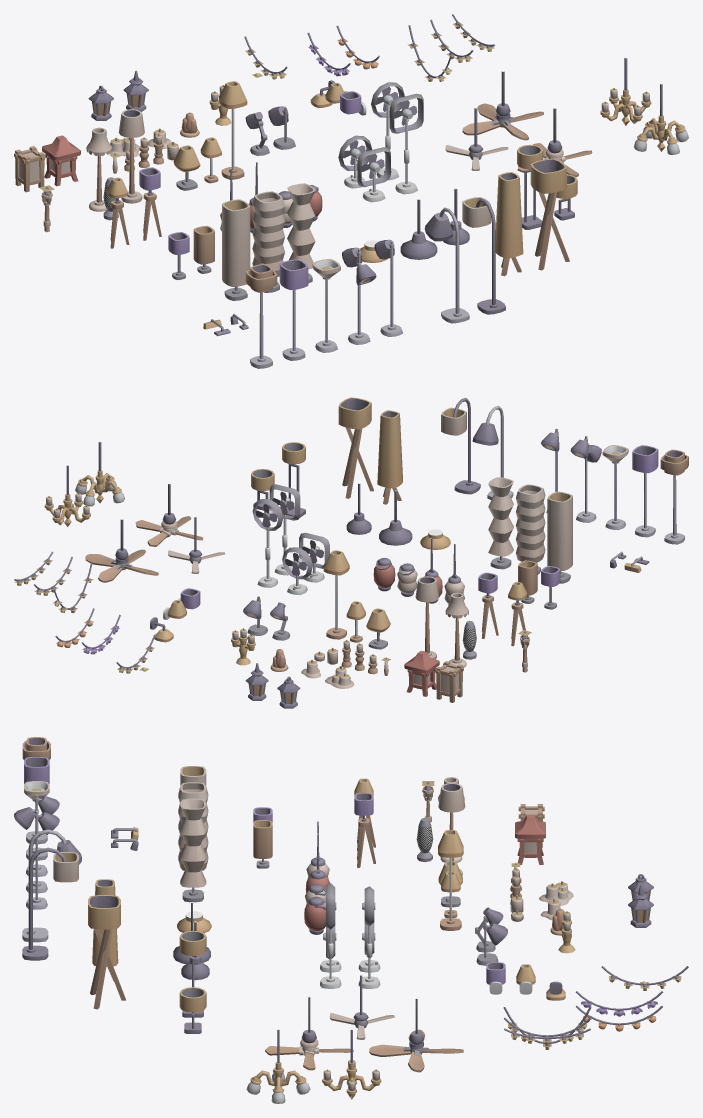
The model's file is lamps.glb.
3 renders of one model, top to bottom at view 1: azimuth 30°, elevation 25°; view 2: azimuth 150°, elevation 25°; view 3: azimuth 270°, elevation 25°, orthographic. The views are drawn at different scales.
Visible parts, largest first — view 1: lamp-long-standing, lamp-long-standing-wiggle-style-a, lamp-taper-tripod, lamp-fancy-tripod, lamp-long-standing-wiggle-style-b, lamp-straight-curved-standing, lamp-target-curved-standing, lamp-straight-standing, chandelier-lamps (%ceiling), lamp-lantern-roof, lamp-straight-rings-standing, fan-standing-square (+23 smaller); view 2: lamp-long-standing-wiggle-style-a, lamp-long-standing, lamp-taper-tripod, lamp-long-standing-wiggle-style-b, lamp-fancy-tripod, lamp-straight-curved-standing, chandelier-lamps (%ceiling), lamp-lantern-roof, lamp-straight-standing, lamp-straight-rings-standing, lamp-lantern, chandelier (%ceiling) (+27 smaller); view 3: lamp-long-standing-wiggle-style-b, lamp-fancy-tripod, lamp-straight-curved-standing, chandelier-lamps (%ceiling), lamp-lantern-roof, lamp-long-standing-wiggle-style-a, lamp-standard-standing, (%no-merge) (%animation-rotate-y), lamp-straight-tripod, chandelier (%ceiling), fan-standing-square, lamp-fork-table (+17 smaller).
Part boxes in pixels (<box>): lamp-long-standing: <box>222,199,250,300</box>; lamp-long-standing-wiggle-style-a: <box>252,191,284,292</box>; lamp-taper-tripod: <box>495,172,523,276</box>; lamp-fancy-tripod: <box>530,158,569,270</box>; lamp-long-standing-wiggle-style-b: <box>287,183,315,283</box>; lamp-straight-curved-standing: <box>462,197,505,314</box>; lamp-target-curved-standing: <box>424,207,469,323</box>; lamp-straight-standing: <box>279,259,308,360</box>; chandelier-lamps (%ceiling): <box>633,83,688,154</box>; lamp-lantern-roof: <box>42,135,80,186</box>; lamp-straight-rings-standing: <box>245,264,277,368</box>; fan-standing-square: <box>389,93,423,194</box>; lamp-long-standing-wiggle-style-a: <box>516,484,545,574</box>; lamp-long-standing: <box>547,491,572,583</box>; lamp-taper-tripod: <box>377,410,402,504</box>; lamp-long-standing-wiggle-style-b: <box>488,477,513,569</box>; lamp-fancy-tripod: <box>338,397,373,498</box>; lamp-straight-curved-standing: <box>441,398,480,494</box>; chandelier-lamps (%ceiling): <box>75,441,124,506</box>; lamp-lantern-roof: <box>404,651,439,696</box>; lamp-straight-standing: <box>632,445,658,537</box>; lamp-straight-rings-standing: <box>660,449,688,544</box>; lamp-lantern: <box>435,661,463,702</box>; chandelier (%ceiling): <box>44,465,90,526</box>; lamp-long-standing-wiggle-style-b: <box>180,798,206,902</box>; lamp-fancy-tripod: <box>88,895,125,1009</box>; lamp-straight-curved-standing: <box>22,847,78,960</box>; chandelier-lamps (%ceiling): <box>246,1029,310,1103</box>; lamp-lantern-roof: <box>515,815,545,864</box>; lamp-long-standing-wiggle-style-a: <box>178,782,208,870</box>; lamp-standard-standing: <box>438,830,463,930</box>; (%no-merge) (%animation-rotate-y): <box>369,1029,463,1072</box>; lamp-straight-tripod: <box>354,793,375,867</box>; chandelier (%ceiling): <box>322,1029,381,1099</box>; fan-standing-square: <box>320,883,341,988</box>; lamp-fork-table: <box>179,987,206,1033</box>.
Bounding box in the file's own units: 7.92 × 1.38 × 7.83.
3 materials, 1 textured.
